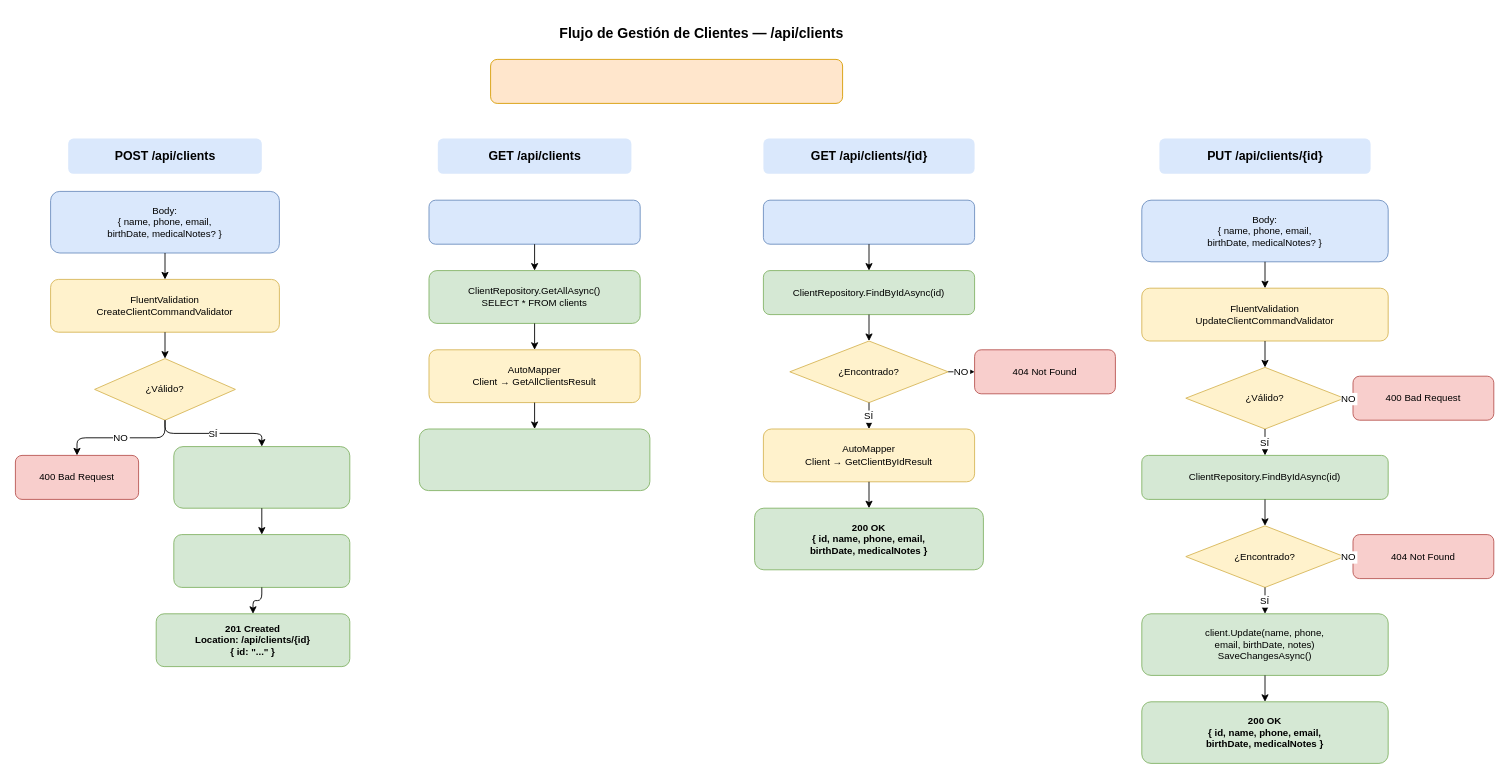
The diagram is 1509 pixels wide and 779 high, and some of its shapes have lost their labels. The centre of each missing label's shape, as x and y in pixels:
200 OK [ { id, name, phone, email, birthDate, medicalNotes }, ... ]: (x=534, y=459)
ClientRepository.AddAsync() SaveChangesAsync(): (x=261, y=560)
GetAllClientsQuery: (x=534, y=221)
GetClientByIdQuery(id): (x=869, y=221)
new Client(name, phone, email, birthDate, notes) Id = Guid.NewGuid(): (x=261, y=477)
Requiere: Authorization: Bearer {JWT} Política: "Staff" (role = 0 o 1): (x=666, y=81)
